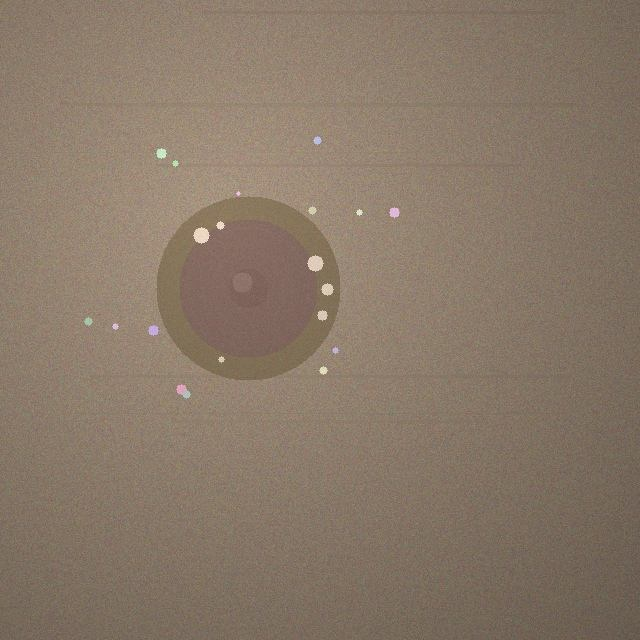overburn: (156, 196, 340, 380)
